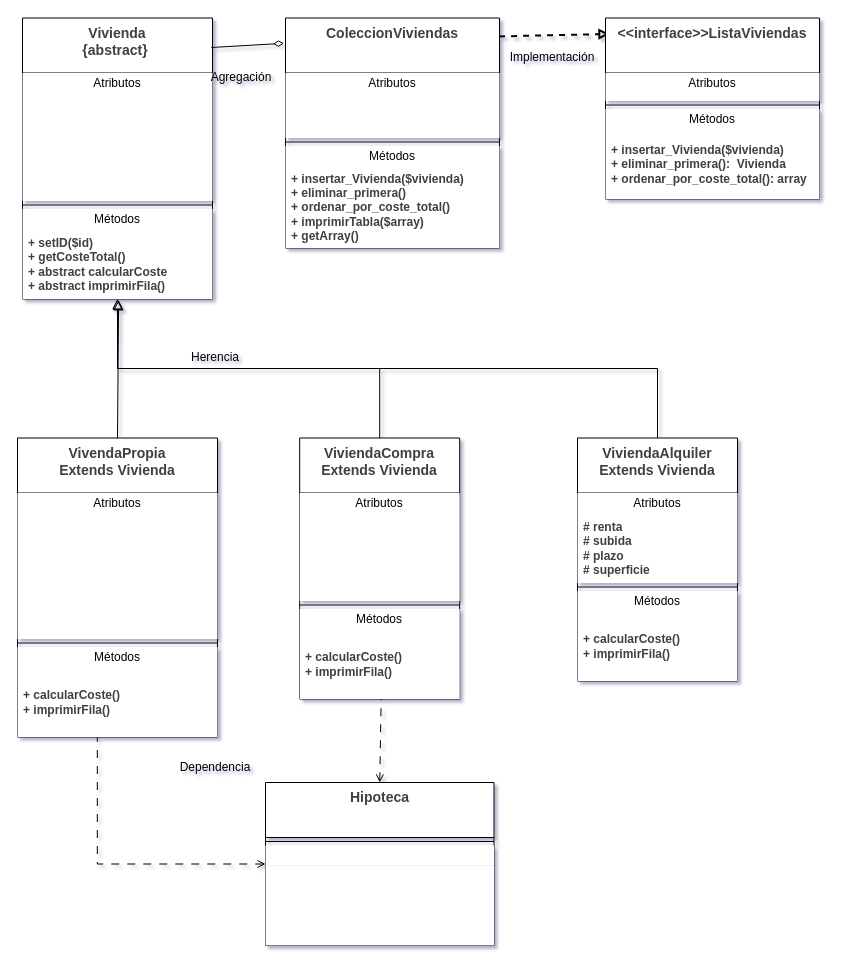
Some shapes in this 843 by 969 pixel diagram are drawn without their labels. The shapes that lost their labels are listed below. From the top down, each one's centre as x and y in pixels, then its label:
At (x=392, y=115): "# arrayViv".
At (x=117, y=146): "#id # coste_total # superficie".
At (x=117, y=575): "# cuota # precio # coste # licencias # porentrada # interes # plazo # superficie".
At (x=379, y=556): "# cuota # precio # porentrada # interes # plazo #superficie".
At (x=379, y=855): "Métodos (estático)".
At (x=379, y=905): "+ calcularCuotaMesHipoteca(): float".
